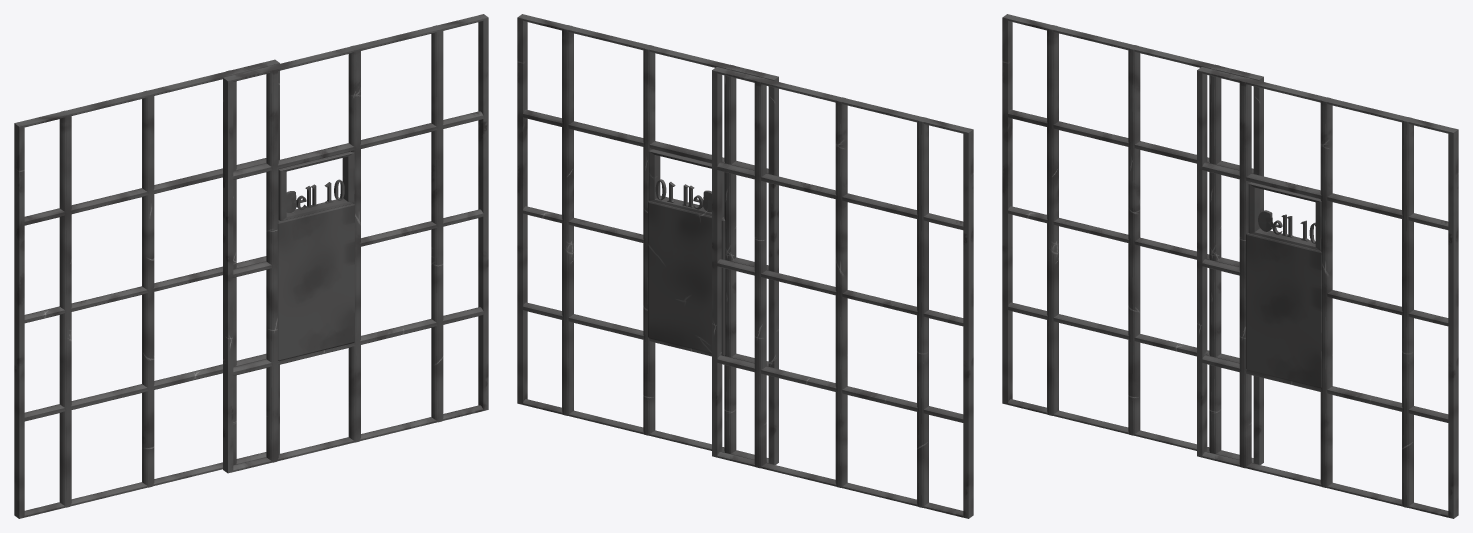
File: bars.fbx
The picture shows the model from 3 angles, left to right: view 1: azimuth 30°, elevation 25°; view 2: azimuth 150°, elevation 25°; view 3: azimuth 330°, elevation 25°; orthographic projection.
Parts seen in each view (by area): view 1: front_bars, back_bars, cell_plate; view 2: back_bars, front_bars, cell_plate; view 3: front_bars, back_bars, cell_plate.
Boxes of the visible parts, x1,y1,x2,y2 form: front_bars: (223, 14, 488, 473); back_bars: (14, 59, 279, 518); cell_plate: (277, 151, 355, 361); back_bars: (712, 67, 973, 518); front_bars: (517, 14, 778, 464); cell_plate: (648, 149, 725, 355); front_bars: (1197, 67, 1458, 518); back_bars: (1002, 14, 1263, 464); cell_plate: (1246, 182, 1321, 388).
Bounding box in the file's own units: 84.9 × 68.59 × 3.6.
Materials: 2 (2 with a texture image).
